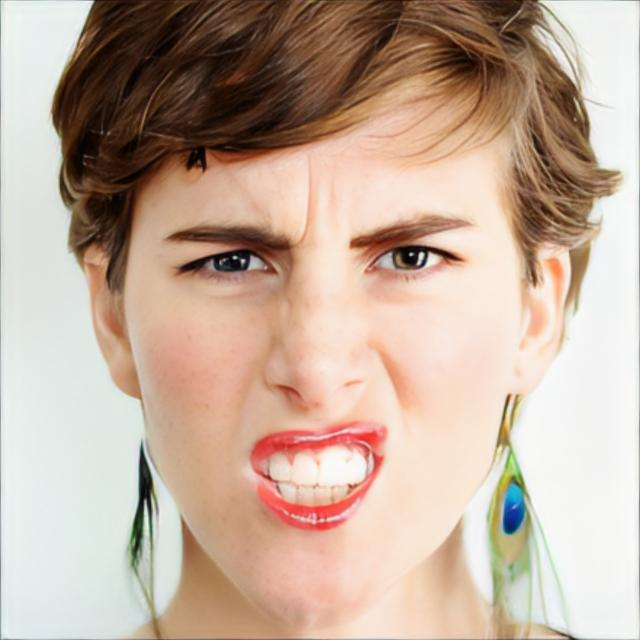disgust: (122, 53, 514, 636)
